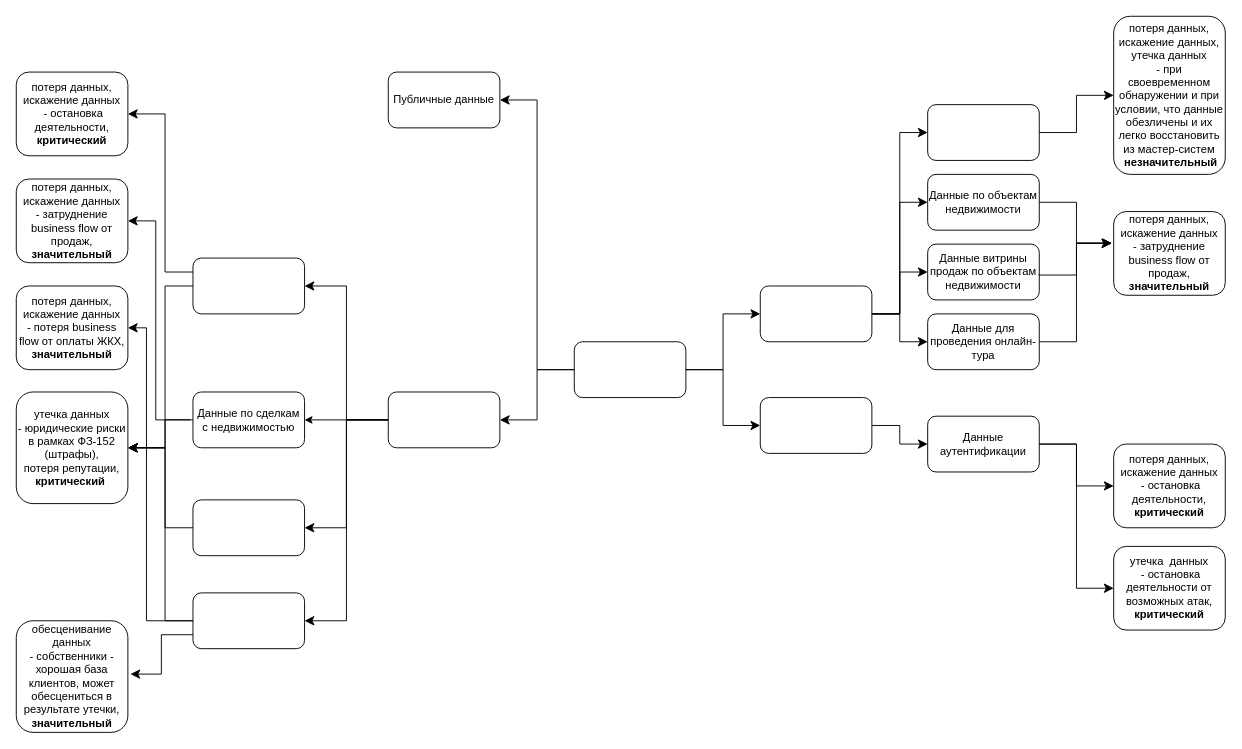
Some shapes in this 1242 by 749 pixel diagram are drawn without their labels. Here are the shapes that lost their labels. From the top down, the box of each, then its label:
(927, 104, 1039, 160): Аналитика и отчеты
(192, 257, 305, 314): Данные бухгалтерии
(759, 285, 872, 342): Внутренние данные
(573, 341, 686, 398): Безопасность данных
(387, 391, 500, 448): Конфиденциальные данные
(759, 397, 872, 453): Секретные данные
(192, 499, 305, 556): Данные об услугах ЖКХ по собствениикам
(192, 592, 305, 649): Данные собственников
